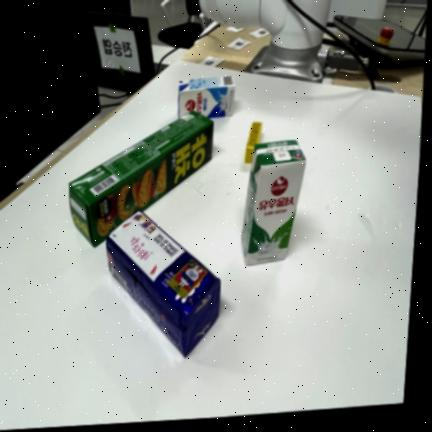cracker_ace: (106, 210, 220, 356)
cracker_vege: (69, 111, 213, 246)
gum_yellow: (245, 121, 262, 162)
milk_blue: (178, 76, 235, 117)
milk_green: (242, 140, 305, 264)
